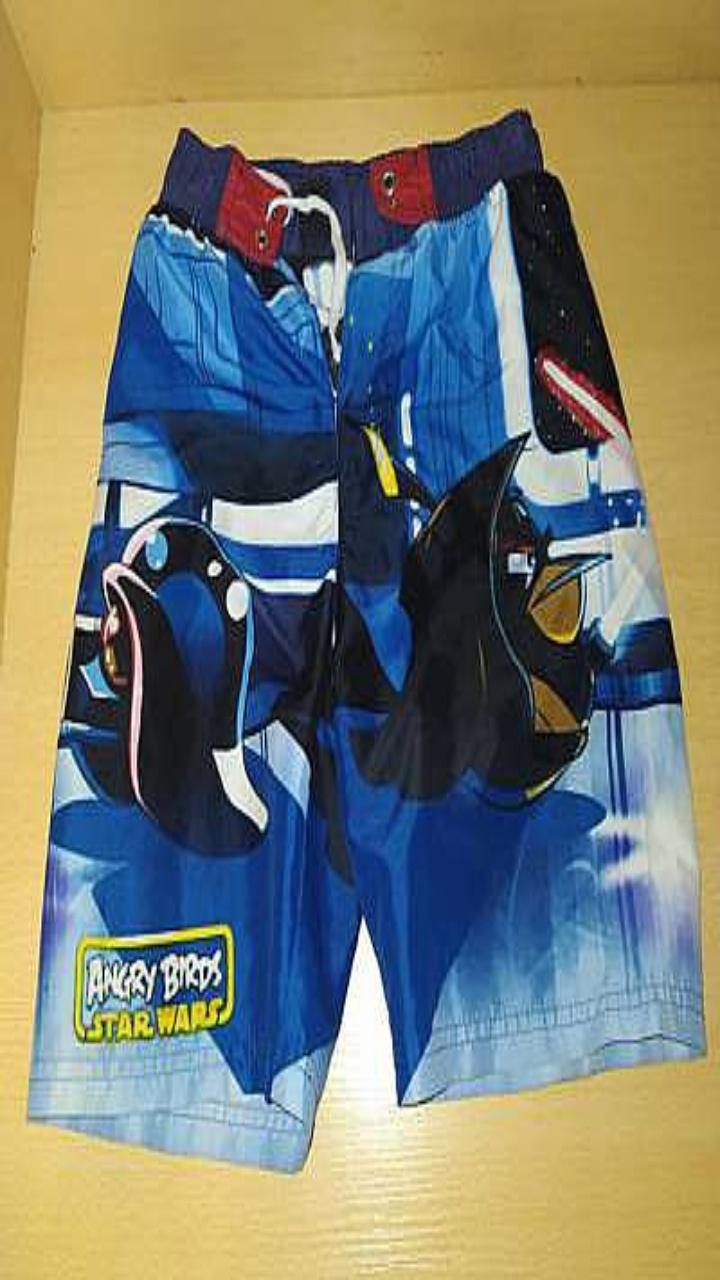Shorts: (29, 113, 704, 1169)
